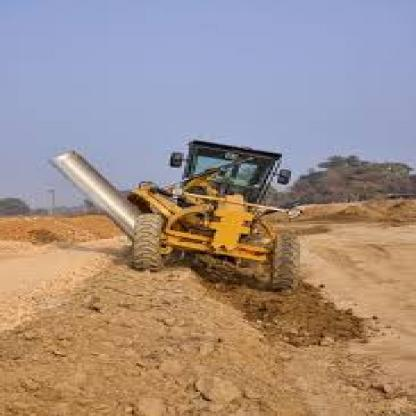bull_dozer/loader/grader: (41, 130, 327, 316)
